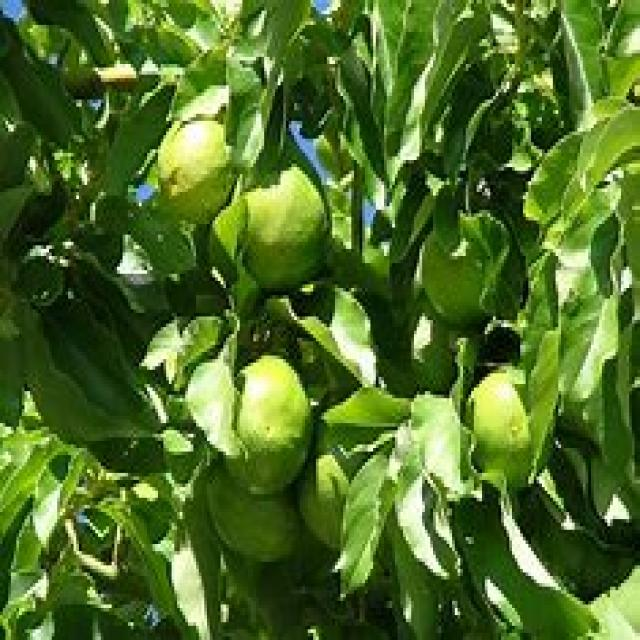Avocado: (446, 342, 558, 488), (147, 53, 239, 225), (238, 158, 336, 287), (227, 358, 318, 496), (198, 460, 292, 548), (297, 450, 371, 544)
